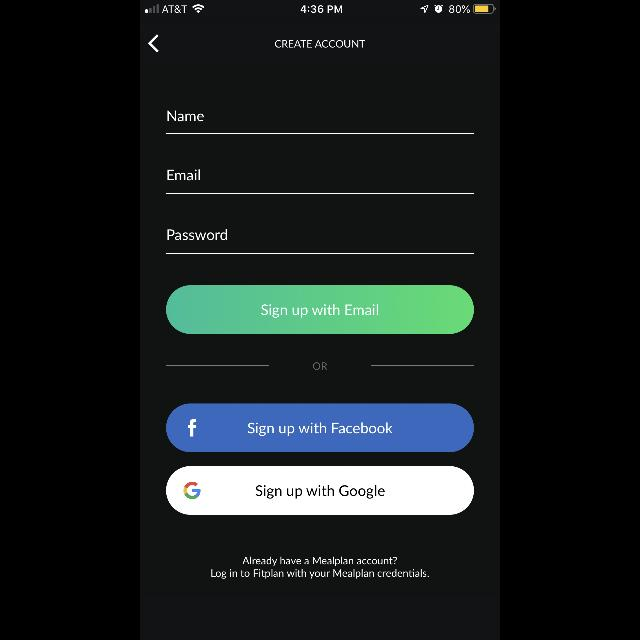icon: (148, 35, 158, 53)
input: (166, 230, 474, 254), (166, 170, 474, 194), (166, 110, 474, 134)
text: (212, 569, 428, 579), (242, 556, 398, 566), (167, 229, 227, 241), (275, 40, 365, 48), (168, 110, 205, 122), (168, 170, 200, 180), (313, 362, 327, 370)
textbutton: (166, 403, 474, 452), (166, 466, 474, 514), (166, 286, 474, 334)
uppertaskbar: (140, 0, 500, 14)
